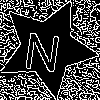N: (22, 22, 65, 73)
